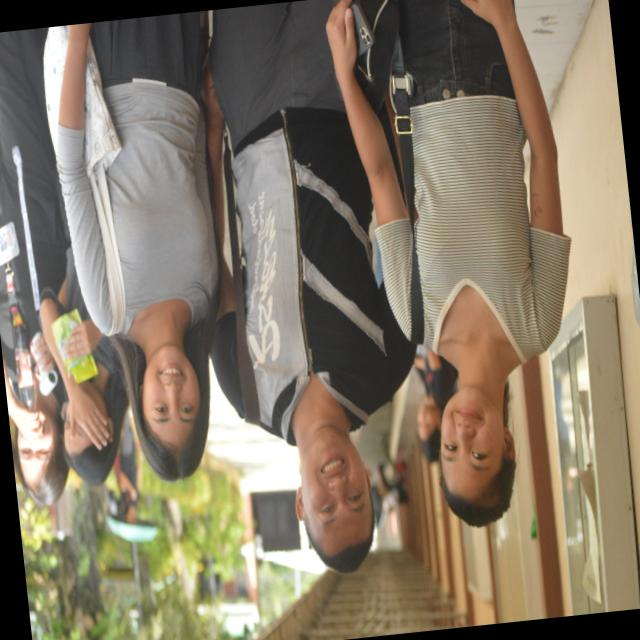person: (328, 0, 570, 525), (210, 0, 415, 572), (57, 12, 223, 480), (40, 232, 128, 484), (0, 29, 66, 337), (415, 345, 458, 462), (115, 415, 143, 522)
